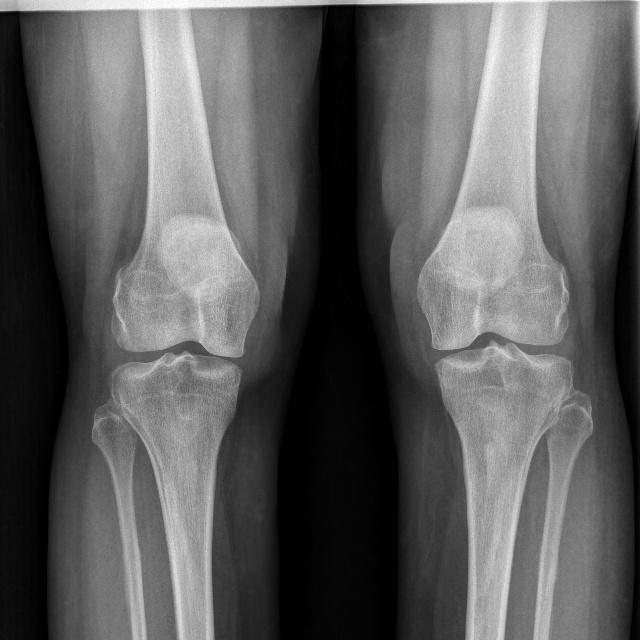Knee: (411, 277, 576, 431), (106, 282, 259, 422)
